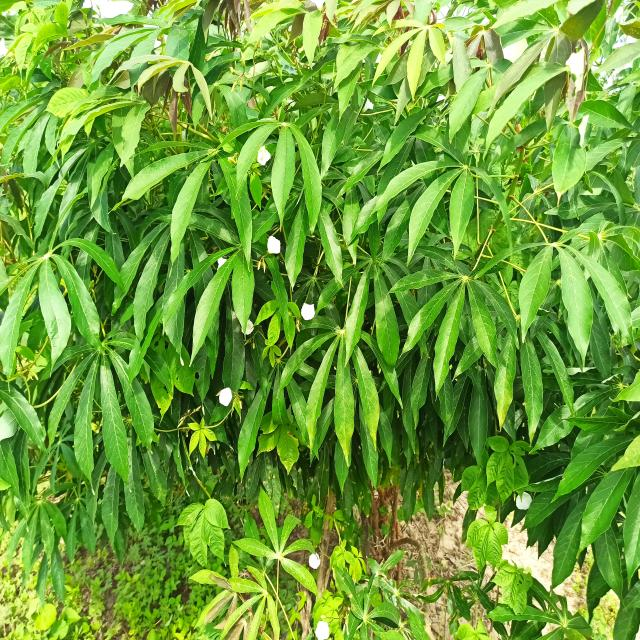Maleza: (5, 594, 190, 640), (169, 496, 227, 562), (484, 425, 531, 500), (458, 504, 508, 572), (458, 462, 496, 513), (187, 414, 220, 461)
